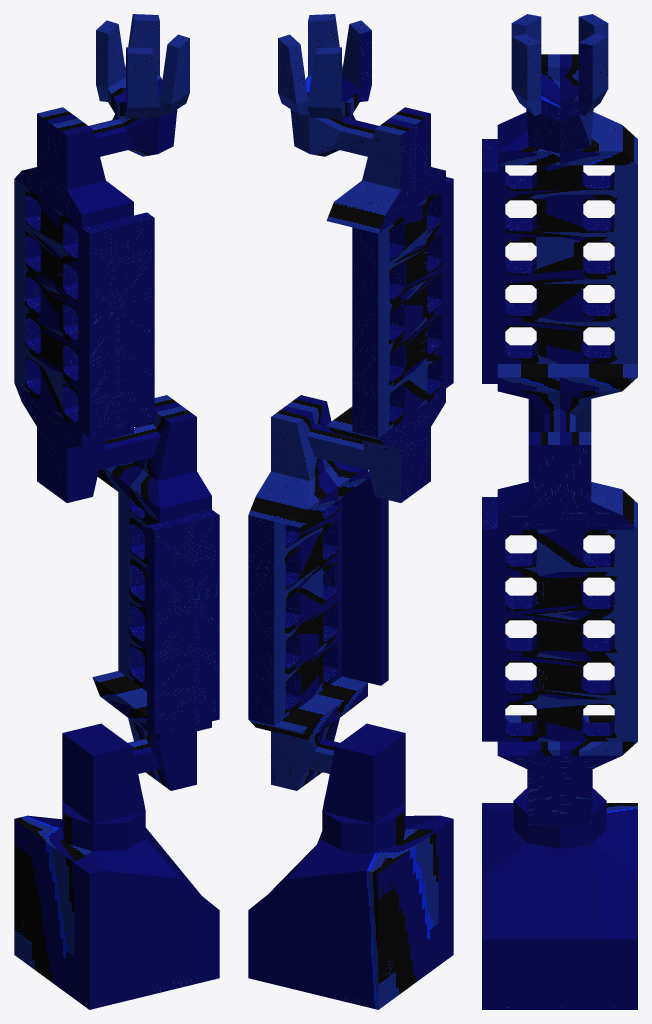
File: fullarm.glb
3 renders of one model, left to right at view 1: azimuth 30°, elevation 25°; view 2: azimuth 150°, elevation 25°; view 3: azimuth 270°, elevation 25°, orthographic. The views are drawn at different scales.
Parts seen in each view (by area): view 1: SecondArm, FirstArm, Base, Claw, BaseMotor; view 2: FirstArm, SecondArm, Base, Claw, BaseMotor; view 3: FirstArm, SecondArm, Base, Claw, BaseMotor.
Boxes of the visible parts, x1,y1,x2,y2 form: SecondArm: (14,107,160,502); FirstArm: (92,395,219,790); Base: (14,815,219,1009); Claw: (89,14,189,156); BaseMotor: (62,723,145,851); FirstArm: (248,395,388,790); SecondArm: (307,107,453,502); Base: (248,815,453,1009); Claw: (278,14,378,156); BaseMotor: (322,723,405,854); FirstArm: (482,432,637,826); SecondArm: (482,54,637,431); Base: (482,803,637,1009); Claw: (511,14,608,156); BaseMotor: (513,769,606,848).
Bounding box in the file's own units: 1 × 6.8 × 1.
1 material, 1 textured.
